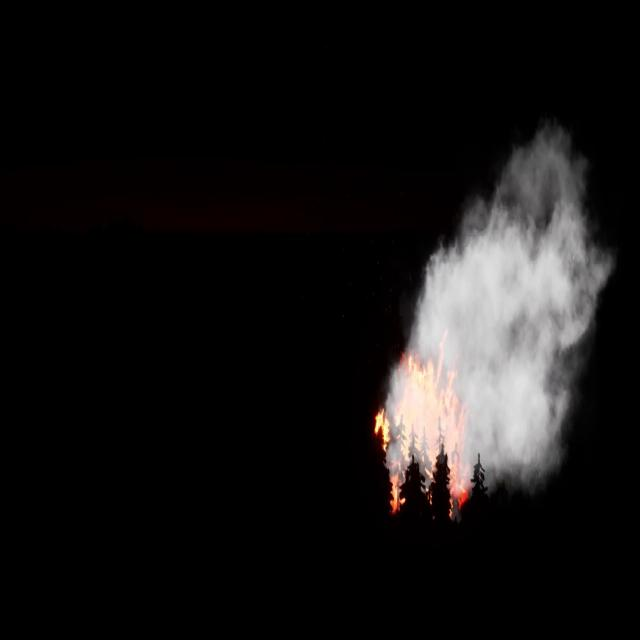fire: (370, 351, 475, 514)
smoke: (385, 114, 617, 472)
